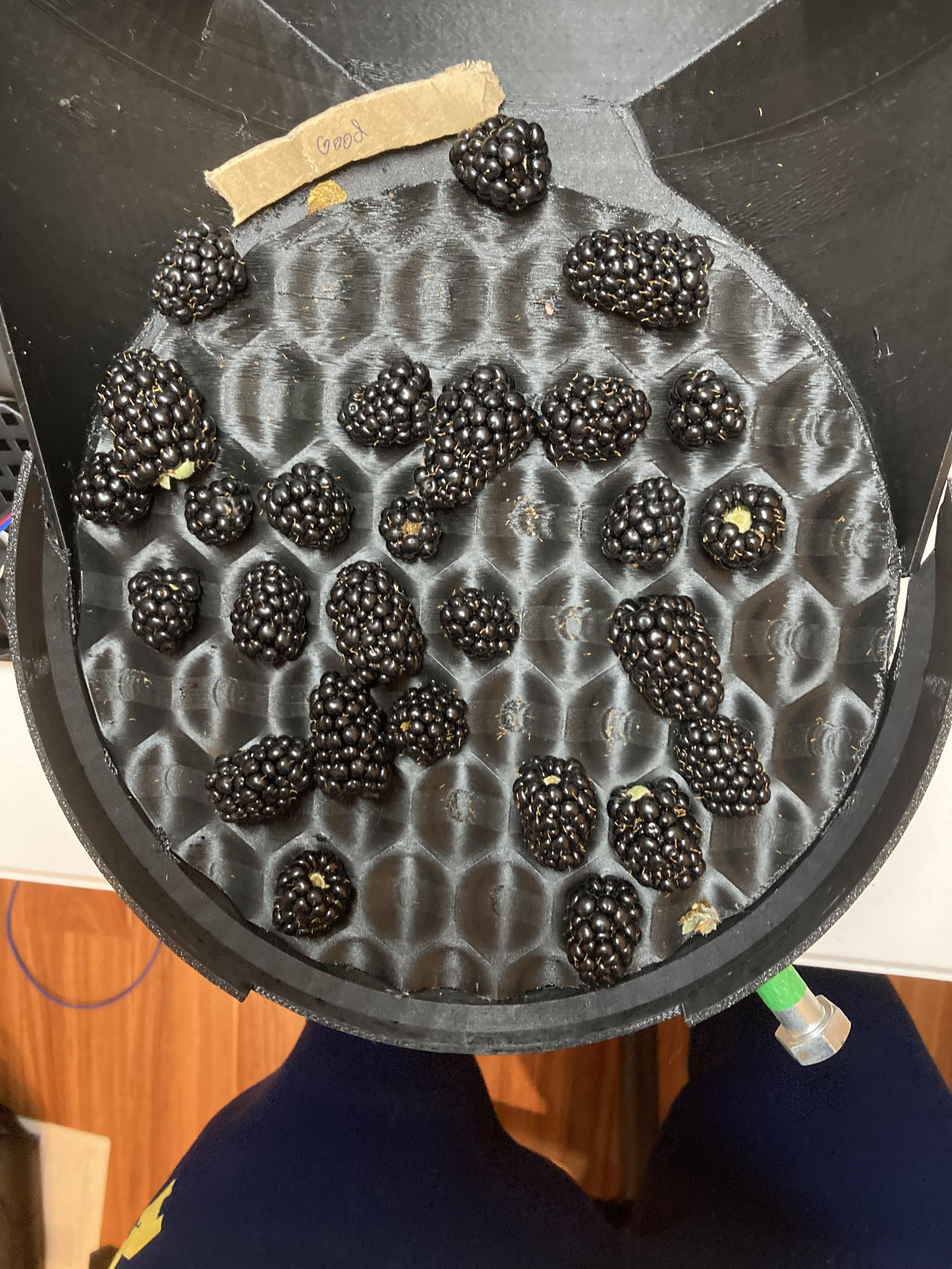berry: (415, 363, 536, 510), (98, 350, 217, 488), (565, 228, 706, 333), (613, 595, 721, 719), (326, 561, 426, 686), (608, 777, 706, 893), (306, 674, 395, 798), (541, 367, 647, 465), (672, 711, 769, 815), (452, 113, 550, 212), (514, 755, 598, 870), (562, 874, 641, 987), (153, 228, 245, 321), (210, 735, 308, 822), (696, 478, 785, 573), (230, 559, 308, 664), (340, 362, 431, 450), (601, 477, 685, 572), (265, 462, 351, 551), (386, 670, 468, 761), (273, 850, 353, 938), (665, 367, 745, 450), (129, 561, 201, 652), (71, 451, 153, 526), (440, 588, 519, 660), (186, 467, 251, 545), (378, 496, 442, 563)
